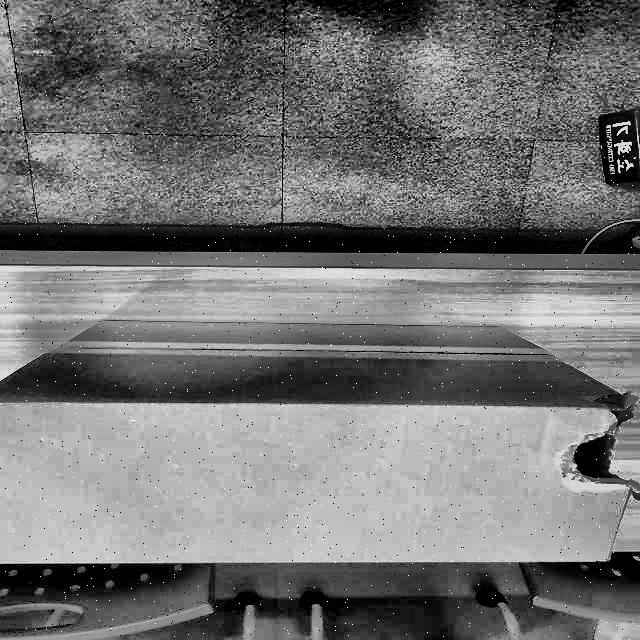box: (0, 309, 639, 570)
hole: (545, 389, 637, 497)
